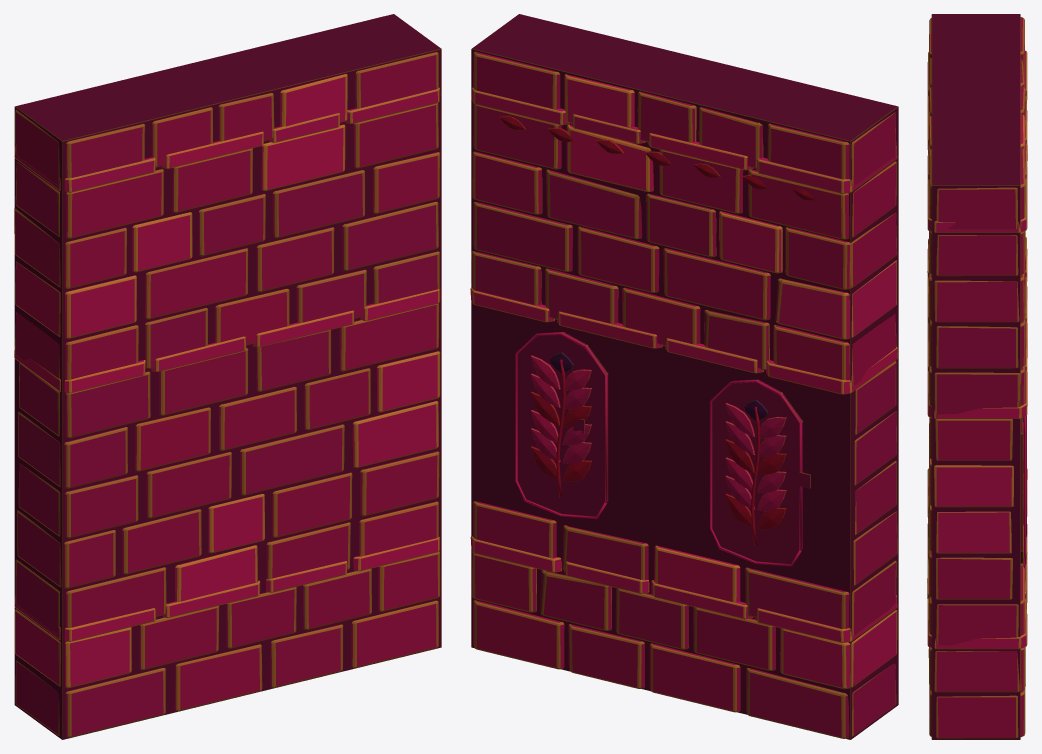
The model's file is SM_RV_Wall.fbx.
3 views of the same model, side by side, from view 1: azimuth 30°, elevation 25°; view 2: azimuth 150°, elevation 25°; view 3: azimuth 270°, elevation 25° (orthographic). The views are drawn at different scales.
Visible parts, largest first — view 1: SM_RV_Wall; view 2: SM_RV_Wall; view 3: SM_RV_Wall.
Part boxes in pixels (x1,y1,x2,y2): SM_RV_Wall: [14, 14, 441, 739]; SM_RV_Wall: [470, 14, 898, 739]; SM_RV_Wall: [927, 14, 1027, 739].
Size of what is drawn, in the model's own units: 98.46 by 400 by 600.
